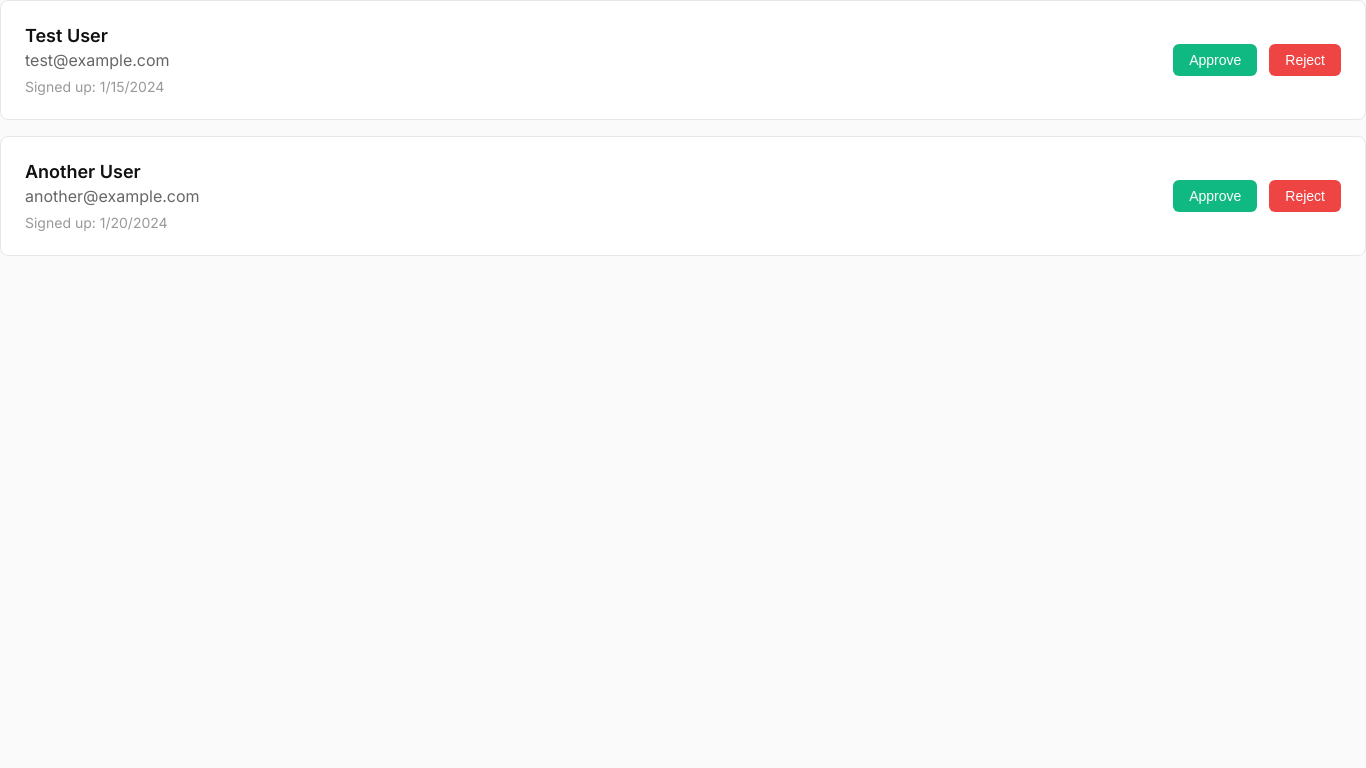
it: UserList › shows confirmation modal when approve is clicked
Click the button "Approve" in the row of "test@example.com" at {"x": 1215, "y": 60}, box [1173,44,1257,76]
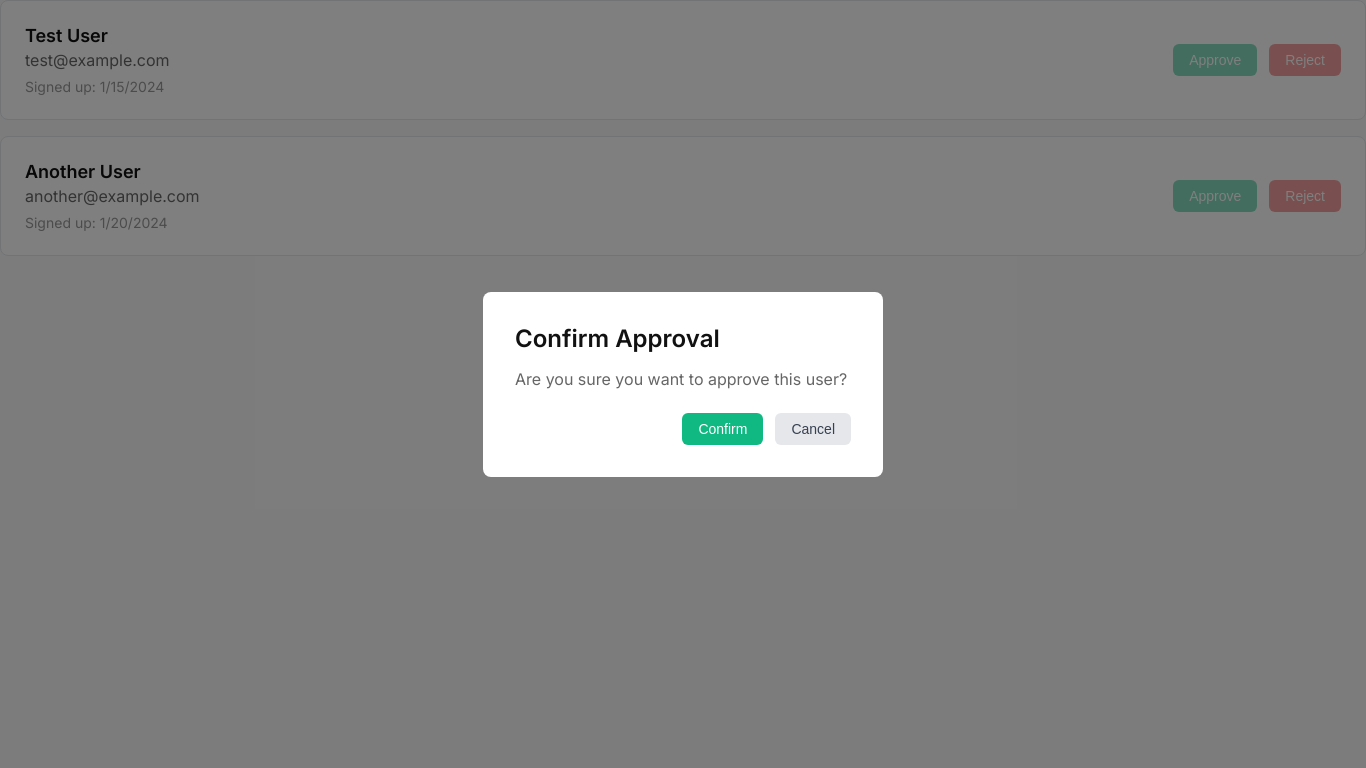
Expected: the heading "Confirm Approval" is shown, [515,324,720,352]
Expected: the text "Are you sure you want to approve this user?" is shown, [515,368,851,388]
